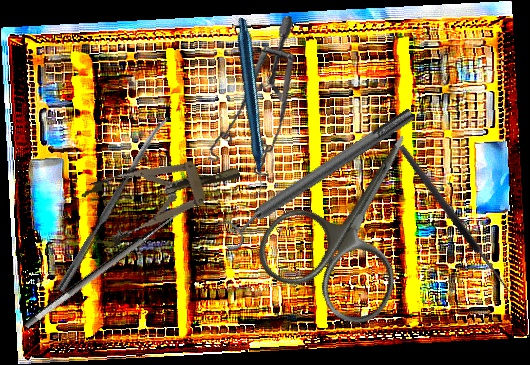Fixation Ring: (211, 99, 423, 255)
Handpiece: (166, 16, 331, 198)
Hook Surgical: (12, 175, 213, 332), (396, 138, 523, 298)
Iris Scissors: (246, 100, 466, 336)
Speculum: (189, 15, 314, 185), (76, 141, 250, 252)
Surgical Spoon: (56, 113, 170, 294)
